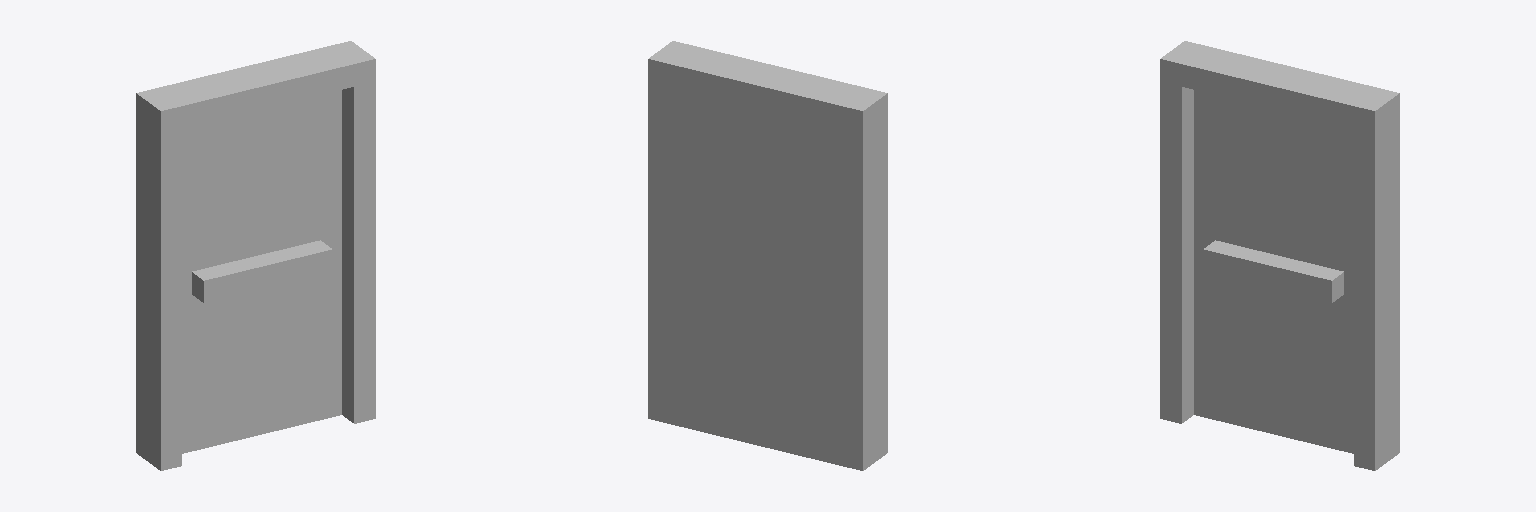
The model's file is Door Fool.obj.
The picture shows the model from 3 angles: view 1: azimuth 30°, elevation 25°; view 2: azimuth 150°, elevation 25°; view 3: azimuth 330°, elevation 25°; orthographic projection.
Visible parts, largest first — view 1: object 1; view 2: object 1; view 3: object 1.
Part boxes in pixels (left/top/right/bottom): object 1: left=136, top=41, right=375, bottom=470; object 1: left=648, top=41, right=887, bottom=470; object 1: left=1160, top=41, right=1399, bottom=470.
Bounding box in the file's own units: 1 × 1.6 × 0.2.